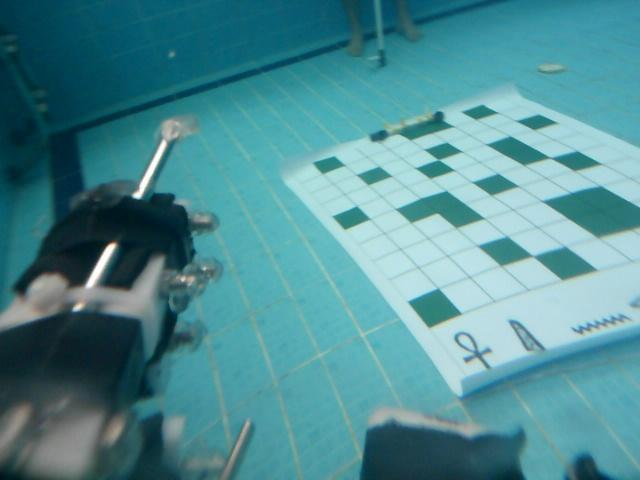Ankh: (453, 330, 495, 372)
Reed: (506, 317, 548, 357)
Water: (572, 310, 634, 335)
